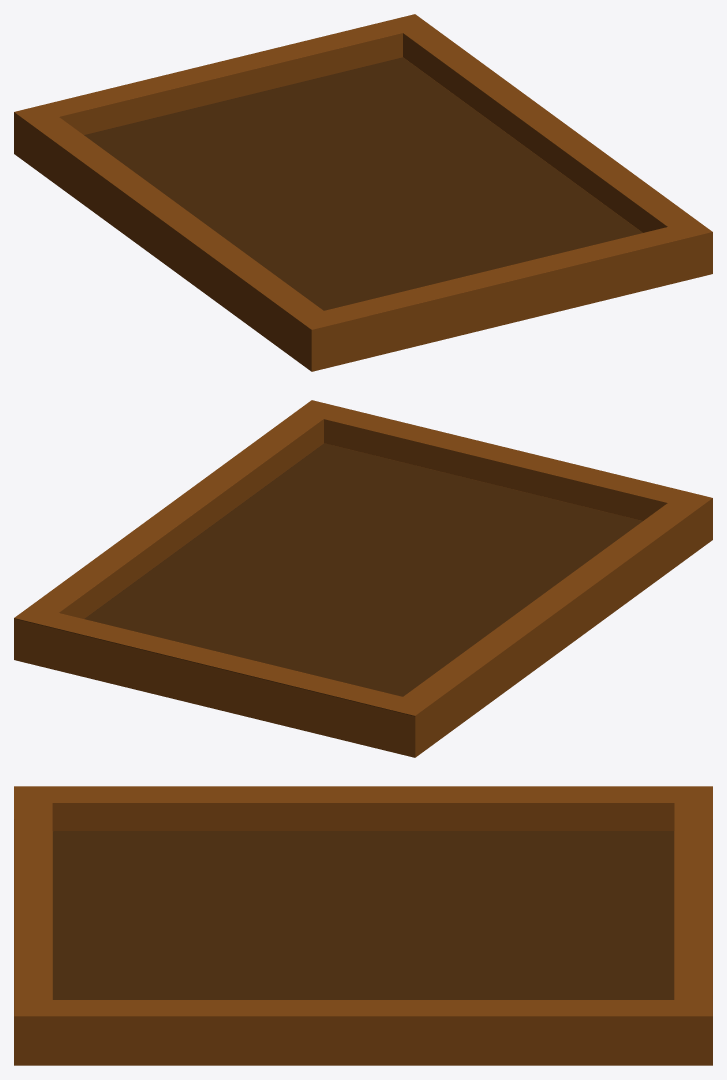
The model's file is 3x4case.obj.
3 renders of one model, top to bottom at view 1: azimuth 30°, elevation 25°; view 2: azimuth 150°, elevation 25°; view 3: azimuth 270°, elevation 25°, orthographic. The views are drawn at different scales.
Visible parts, largest first — view 1: Cube; view 2: Cube; view 3: Cube.
Part boxes in pixels (x1,y1,x2,y2): Cube: [14, 14, 712, 371]; Cube: [14, 400, 712, 757]; Cube: [14, 786, 712, 1065].
Bounding box in the file's own units: 7 × 0.7 × 9.
Materials: 1 (1 with a texture image).
